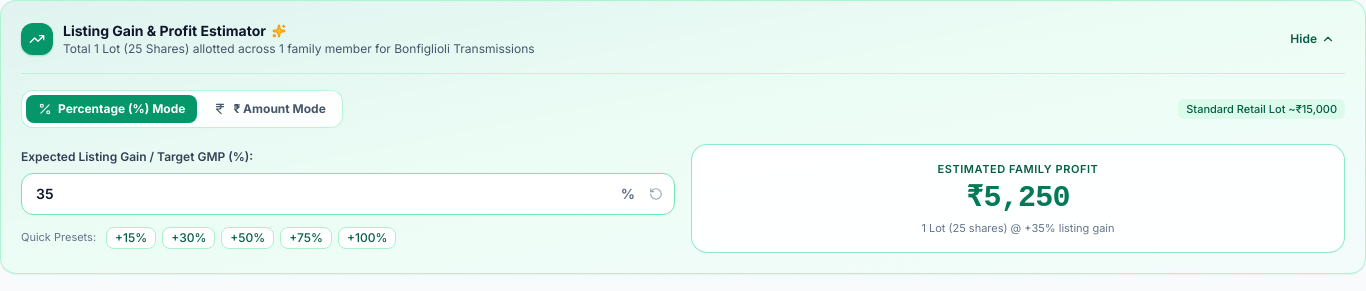
ListingGainCalculator Component › updates profit dynamically when clicking preset percentages
Click "+50%" preset pill
Click the button "+50%" at x=248, y=238, box [221,226,274,248]
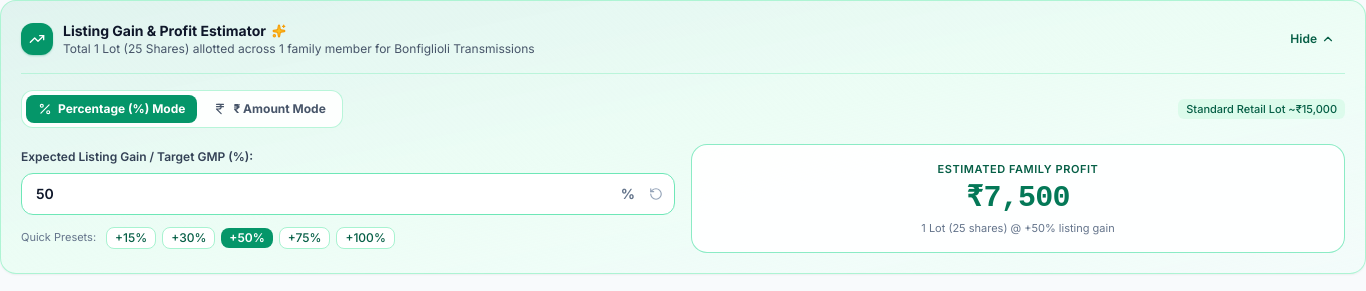
expect the text "₹7,500" is shown: met, box [966,180,1070,216]
Click "+100%" preset pill
Click the button "+100%" at x=366, y=238, box [336,226,395,248]
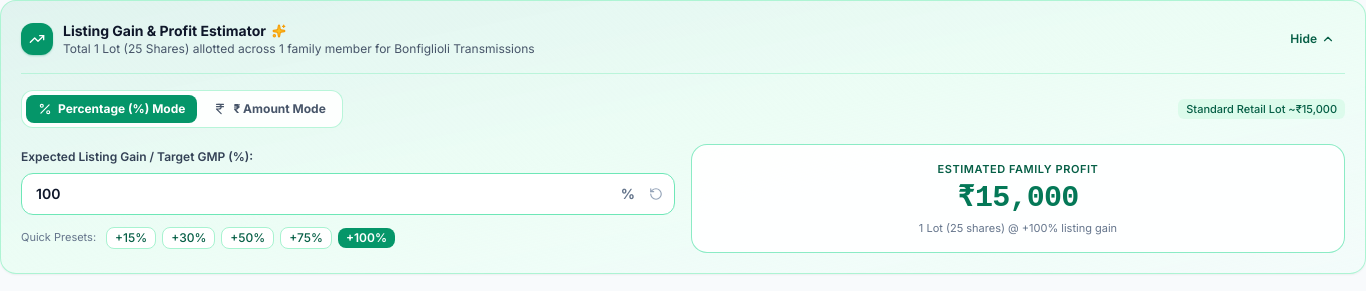
expect the text "₹15,000" is shown: met, box [958,180,1078,216]
